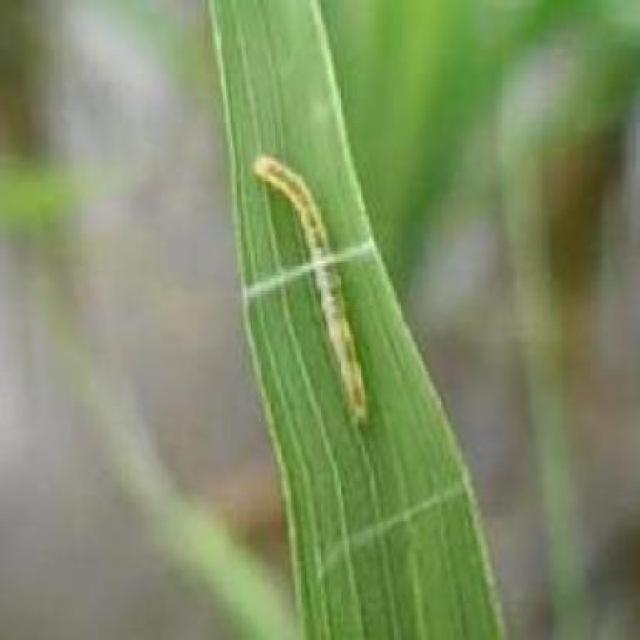leaf-folder: (240, 137, 386, 440)
